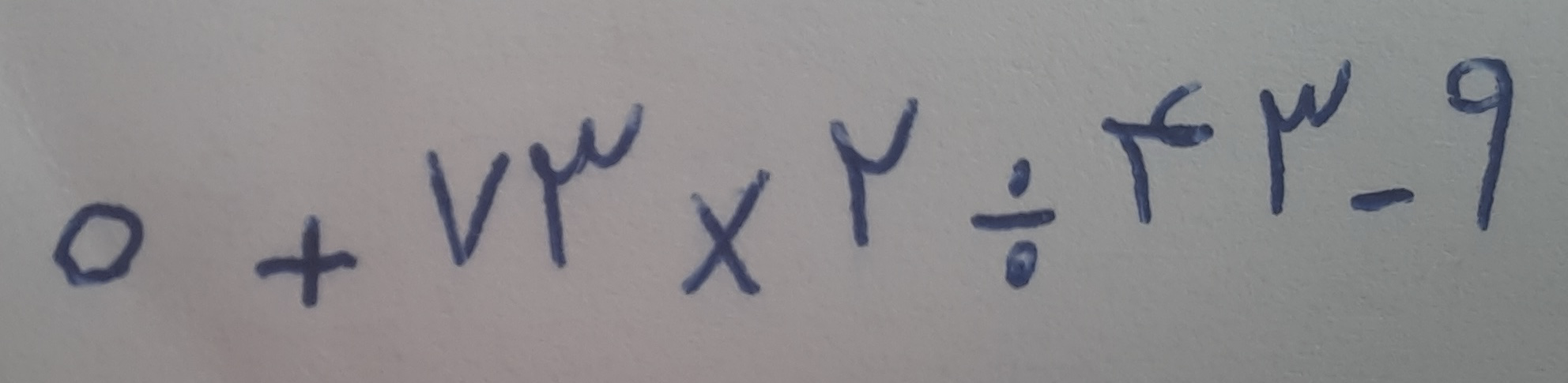character: (527, 99, 644, 270), (1100, 78, 1211, 230), (1257, 57, 1354, 220), (826, 95, 921, 252), (1443, 53, 1516, 234), (678, 162, 771, 300), (967, 154, 1057, 292), (423, 147, 511, 272), (252, 213, 360, 313), (49, 200, 147, 292), (1346, 183, 1417, 216)
